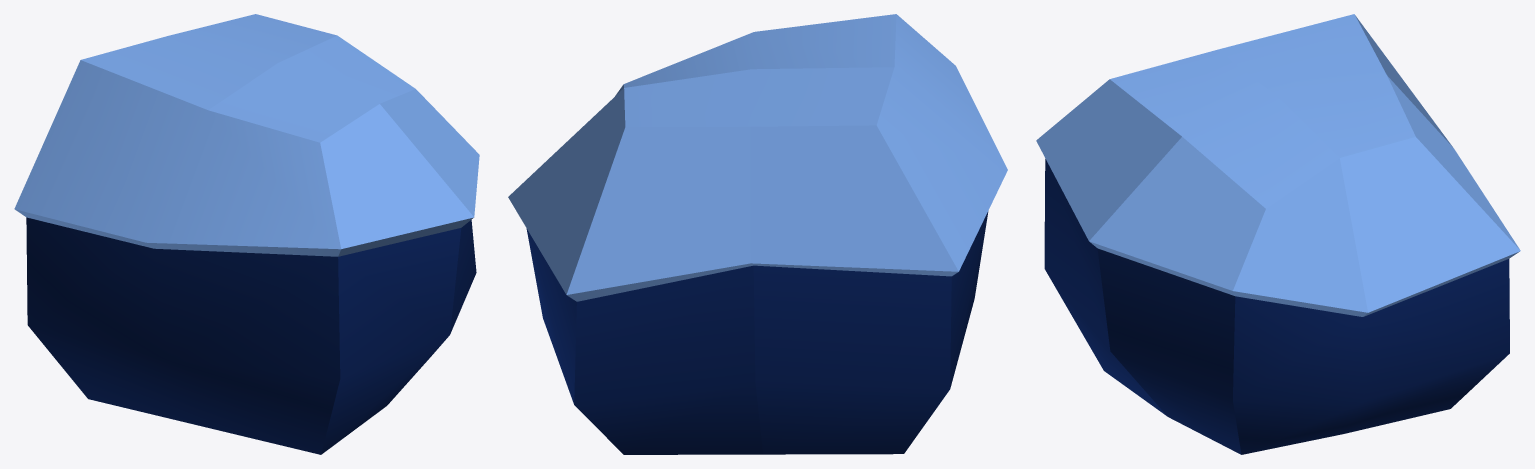
The model's file is Rock_3.fbx.
The picture shows the model from 3 angles, left to right: view 1: azimuth 30°, elevation 25°; view 2: azimuth 150°, elevation 25°; view 3: azimuth 270°, elevation 25°; orthographic projection. The views are drawn at different scales.
Parts seen in each view (by area): view 1: Rock_3; view 2: Rock_3; view 3: Rock_3.
Boxes of the visible parts, x1,y1,x2,y2 form: Rock_3: (14, 14, 479, 454); Rock_3: (508, 14, 1007, 454); Rock_3: (1036, 14, 1520, 454).
Size of the model in its own units: 8.57 by 6.36 by 9.11.
